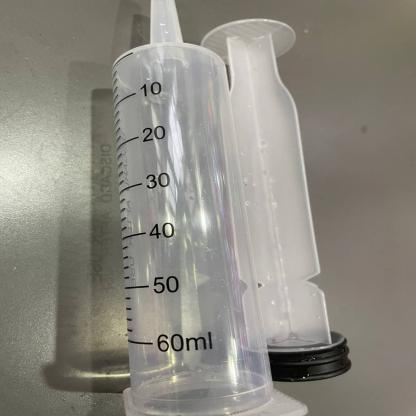wet: (88, 2, 308, 416), (195, 17, 367, 382)
